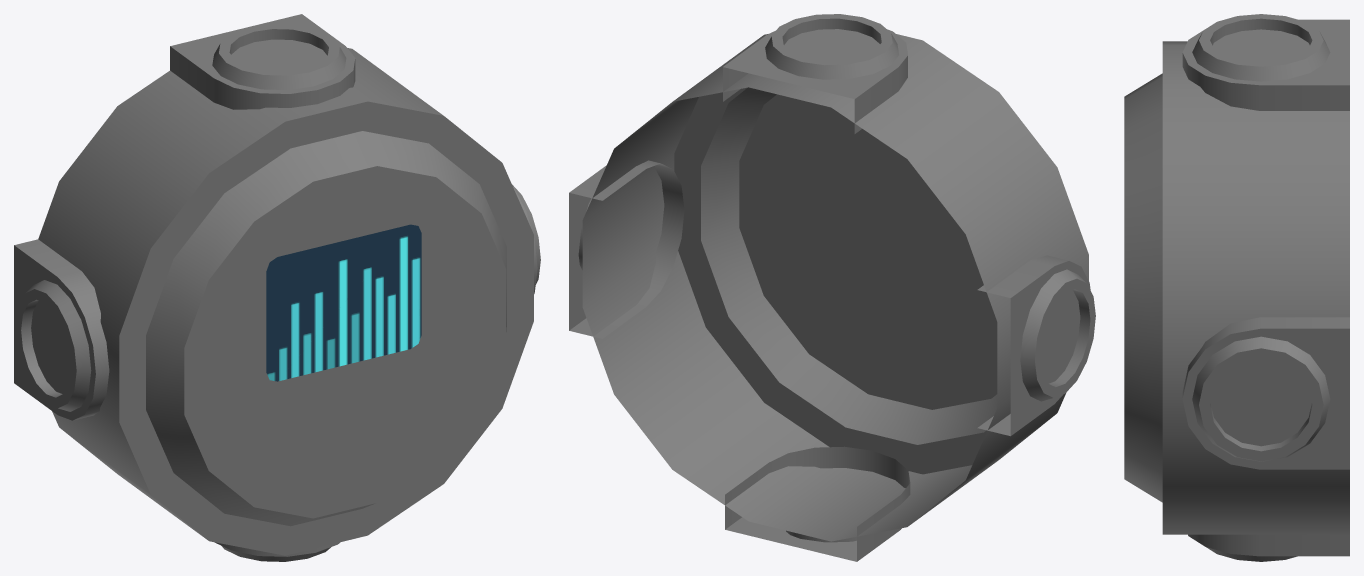
File: Misc_CableBox_01_B_Large.glb
3 renders of one model, left to right at view 1: azimuth 30°, elevation 25°; view 2: azimuth 150°, elevation 25°; view 3: azimuth 270°, elevation 25°, orthographic. The views are drawn at different scales.
Visible parts, largest first — view 1: Misc_CableBox_01_B_Large.001; view 2: Misc_CableBox_01_B_Large.001; view 3: Misc_CableBox_01_B_Large.001.
Part boxes in pixels (x1=…): Misc_CableBox_01_B_Large.001: x1=14, y1=14, x2=540, y2=561; Misc_CableBox_01_B_Large.001: x1=569, y1=14, x2=1095, y2=561; Misc_CableBox_01_B_Large.001: x1=1124, y1=14, x2=1349, y2=561.
Size of the model in its own units: 0.3095 by 0.3095 by 0.1276.
2 materials, 1 textured.
